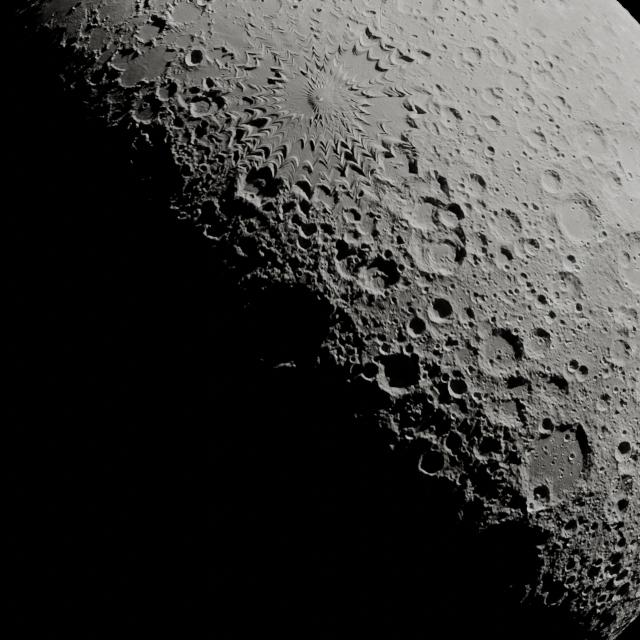crater: (476, 329, 522, 372), (374, 351, 422, 392), (347, 262, 391, 298), (419, 239, 462, 274), (118, 55, 158, 88), (492, 398, 528, 431), (333, 252, 368, 285), (247, 162, 280, 195), (521, 330, 553, 360), (426, 297, 456, 326), (84, 25, 114, 54), (500, 208, 526, 240), (418, 448, 447, 476), (133, 22, 166, 46), (486, 44, 515, 70), (188, 94, 218, 118), (478, 85, 508, 109), (131, 98, 159, 123), (312, 185, 337, 213), (540, 168, 566, 194), (475, 434, 500, 458), (294, 220, 319, 243), (434, 208, 460, 230), (292, 177, 314, 203), (519, 237, 543, 260), (544, 582, 568, 605), (444, 431, 466, 455), (460, 44, 484, 66), (406, 315, 428, 338), (343, 224, 366, 246), (154, 81, 177, 103), (94, 46, 117, 68), (402, 96, 428, 115), (562, 253, 584, 273), (606, 348, 628, 368), (448, 377, 468, 398), (614, 442, 634, 463), (579, 152, 601, 171), (342, 207, 364, 226), (402, 155, 421, 177), (185, 48, 206, 67), (360, 361, 380, 380), (294, 232, 314, 251), (614, 338, 632, 358), (532, 484, 550, 504), (533, 326, 552, 344), (470, 172, 488, 191), (483, 36, 502, 54), (520, 90, 538, 108), (528, 26, 548, 42), (532, 127, 549, 145), (374, 56, 393, 72), (499, 245, 515, 263), (162, 47, 180, 63), (562, 517, 579, 533), (554, 95, 571, 111), (540, 416, 555, 433), (614, 160, 628, 178), (448, 106, 464, 121), (587, 564, 602, 580), (621, 476, 635, 492), (402, 342, 416, 357), (378, 342, 393, 356), (180, 163, 194, 178), (624, 324, 638, 339), (609, 552, 624, 566), (456, 472, 471, 486), (595, 592, 609, 607), (616, 498, 630, 513), (567, 359, 581, 373), (501, 258, 515, 272), (488, 114, 502, 127), (596, 399, 610, 412), (615, 532, 627, 547), (536, 293, 550, 305), (595, 230, 609, 242), (471, 391, 485, 403), (538, 102, 552, 114), (577, 364, 589, 377), (622, 251, 634, 264), (600, 392, 612, 404), (565, 253, 577, 264), (485, 145, 496, 155), (544, 59, 554, 70), (574, 302, 584, 312), (563, 432, 571, 442), (568, 452, 576, 462), (314, 6, 324, 13), (622, 428, 629, 436), (580, 292, 586, 298)
rock: (435, 174, 454, 201), (444, 335, 460, 347), (315, 355, 323, 366), (598, 466, 604, 474), (549, 437, 555, 443), (550, 459, 556, 465)
